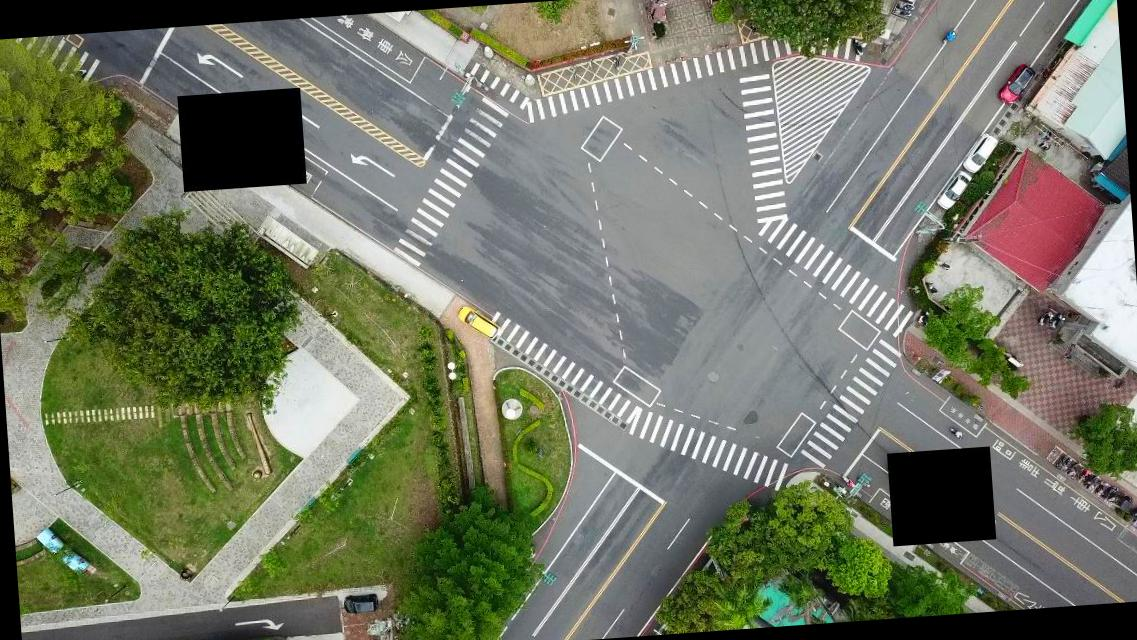vehicle: (994, 63, 1035, 106), (456, 303, 501, 341), (934, 170, 974, 210), (962, 131, 999, 173), (342, 594, 377, 616)
